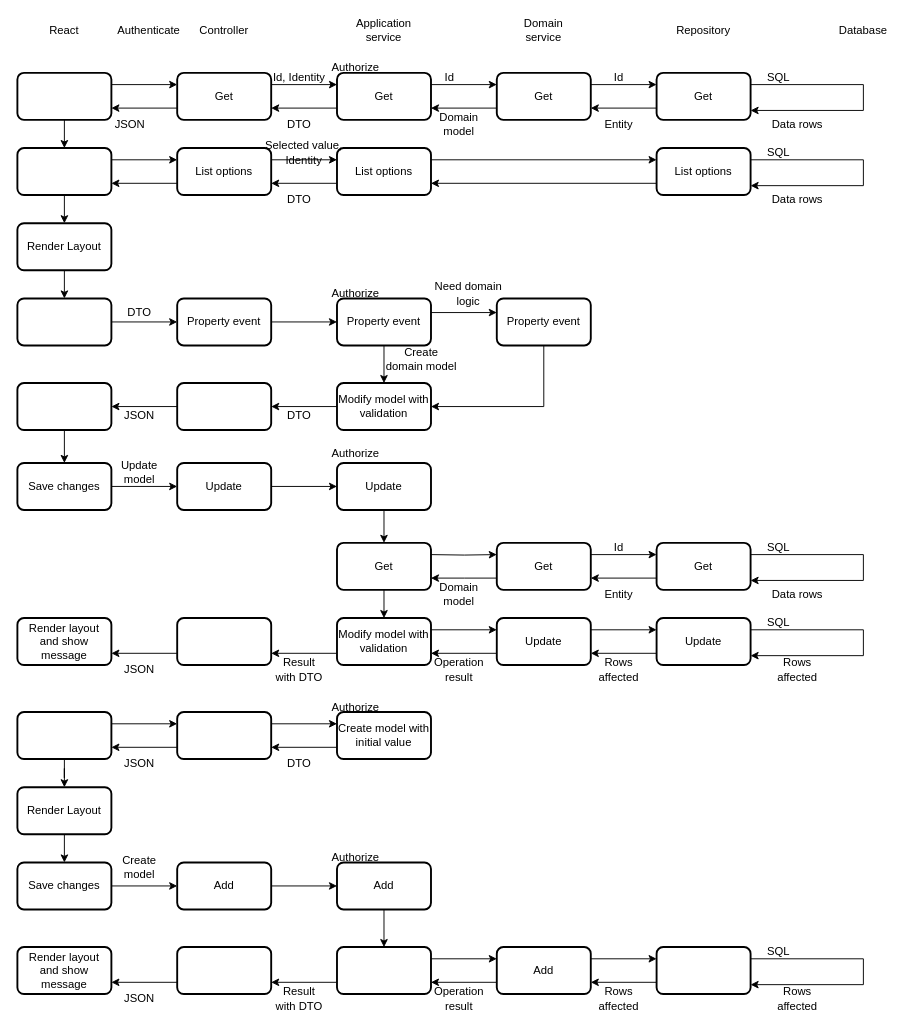
Some shapes in this 907 by 1028 pixel diagram are drawn without their labels. Each missing label, with the centre of its shape:
Add new: (64,735)
Added: (224,970)
Create: (224,735)
Insert: (703,970)
Load all select options: (64,171)
Modify complex property: (64,321)
New model with validation: (383,970)
Property updated: (224,406)
Render layout with updated model: (64,406)
Updated: (224,641)
View/Edit: (64,95)
